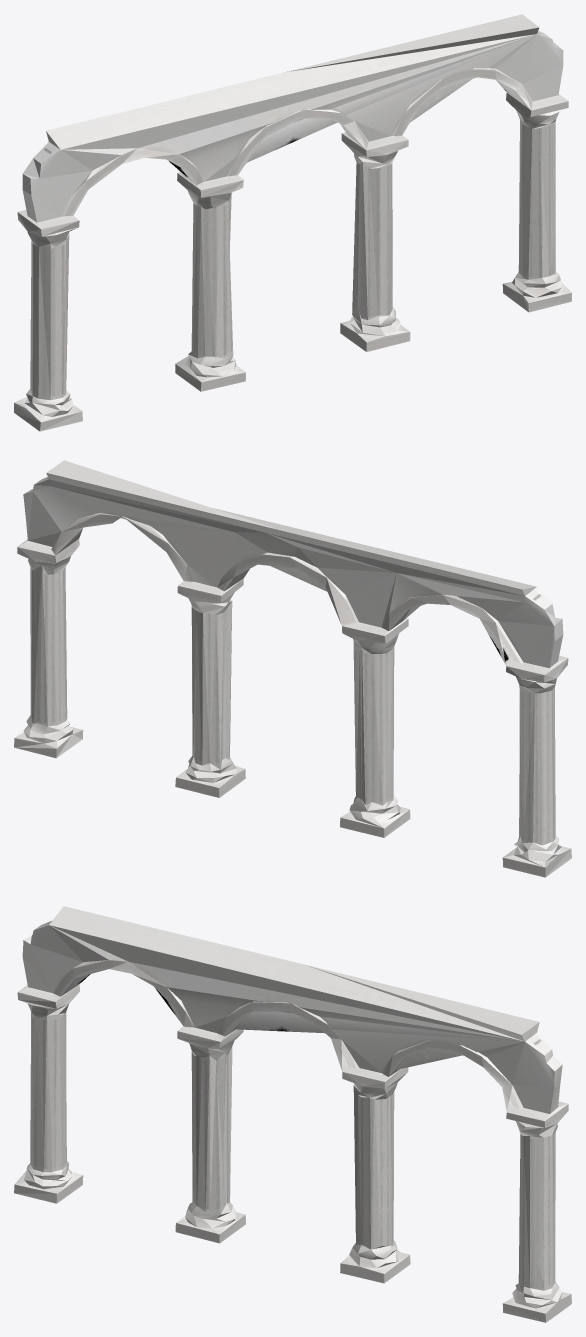
The model's file is ruinas_arcada.fbx.
The picture shows the model from 3 angles, top to bottom: view 1: azimuth 30°, elevation 25°; view 2: azimuth 150°, elevation 25°; view 3: azimuth 330°, elevation 25°; orthographic projection.
Visible parts, largest first — view 1: ruinas_arcada; view 2: ruinas_arcada; view 3: ruinas_arcada.
Boxes of the visible parts, <box> form: ruinas_arcada: <box>14,14,571,431</box>; ruinas_arcada: <box>14,460,571,877</box>; ruinas_arcada: <box>14,906,571,1322</box>.
Size of the model in its own units: 13 by 6.5 by 1.13.
1 material, 1 textured.
